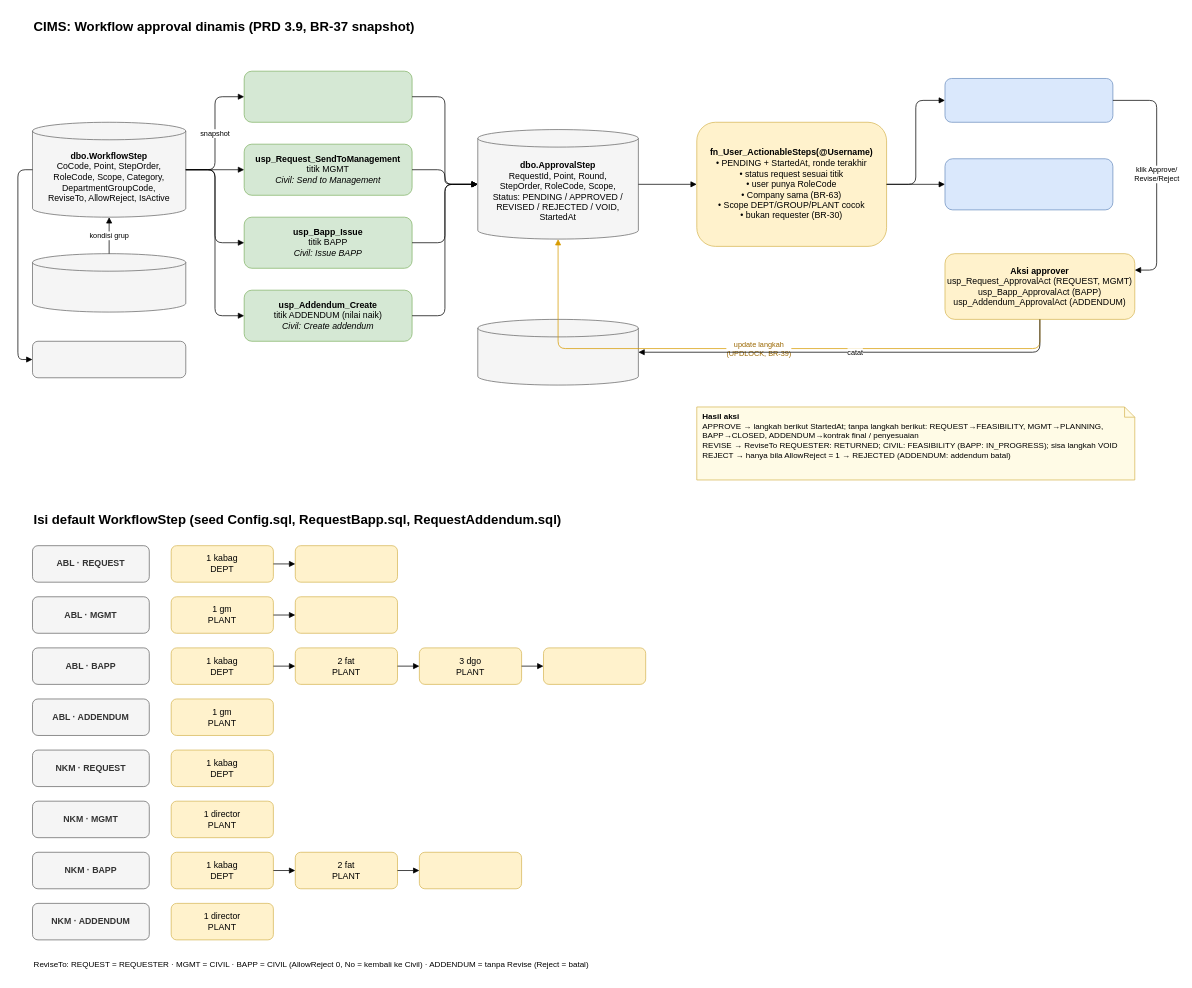
This 1192x988 diagram has some shape labels left out. Here are the shapes that lost their labels. From the top down, the centre of each, then its label:
(x=327, y=96): usp_Request_Submit titik REQUEST adm: Submit
(x=1028, y=100): usp_Request_GetActionableStep tombol di Details
(x=1028, y=184): fn_User_Tasks usp_Task_GetList / GetSummary (Tugas Saya)
(x=109, y=282): DepartmentGroup + DepartmentGroupMember (MILL)
(x=109, y=359): usp_Workflow_GetSteps (preview / uji)
(x=557, y=352): dbo.ApprovalHistory Action, FromStatus, ToStatus, Remarks, ActionBy, ActionAt
(x=346, y=563): 2 mo GROUP MILL
(x=346, y=614): 2 director PLANT · CAPEX
(x=594, y=665): 4 gm PLANT
(x=470, y=870): 3 director PLANT
